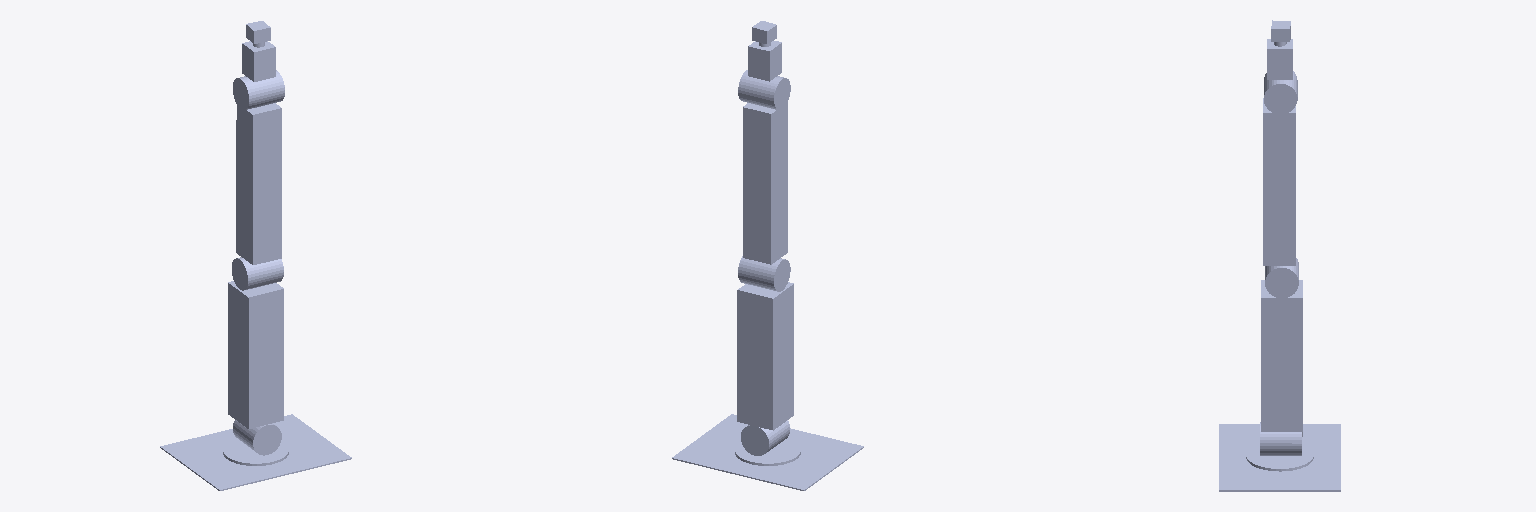
URDF robot description (colarm):
<?xml version="1.0" encoding="utf-8"?>
<!-- This URDF was automatically created by SolidWorks to URDF Exporter! Originally created by [author] ([email redacted]) 
     Commit Version: 1.5.1-0-g916b5db  Build Version: 1.5.7152.31018
     For more information, please see http://wiki.ros.org/sw_urdf_exporter -->
<robot
  name="colarm">
  <link
    name="base_link">
    <inertial>
      <origin
        xyz="1.342E-17 0.00175 0"
        rpy="0 0 0" />
      <mass
        value="0.37094" />
      <inertia
        ixx="0.0025643"
        ixy="5.2134E-22"
        ixz="-5.7244E-19"
        iyy="0.0067502"
        iyz="0"
        izz="0.0041866" />
    </inertial>
    <visual>
      <origin
        xyz="0 0 0"
        rpy="0 0 0" />
      <geometry>
        <mesh
          filename="package://colarm/meshes/base_link.STL" />
      </geometry>
      <material
        name="">
        <color
          rgba="0.79216 0.81961 0.93333 1" />
      </material>
    </visual>
    <collision>
      <origin
        xyz="0 0 0"
        rpy="0 0 0" />
      <geometry>
        <mesh
          filename="package://colarm/meshes/base_link.STL" />
      </geometry>
    </collision>
  </link>
  <link
    name="upbase_link">
    <inertial>
      <origin
        xyz="-1.3629E-16 0.005 -1.459E-14"
        rpy="0 0 0" />
      <mass
        value="0.20106" />
      <inertia
        ixx="0.00032337"
        ixy="-8.721E-18"
        ixz="0"
        iyy="0.0006434"
        iyz="-9.3345E-16"
        izz="0.00032337" />
    </inertial>
    <visual>
      <origin
        xyz="0 0 0"
        rpy="0 0 0" />
      <geometry>
        <mesh
          filename="package://colarm/meshes/upbase_link.STL" />
      </geometry>
      <material
        name="">
        <color
          rgba="0.79216 0.81961 0.93333 1" />
      </material>
    </visual>
    <collision>
      <origin
        xyz="0 0 0"
        rpy="0 0 0" />
      <geometry>
        <mesh
          filename="package://colarm/meshes/upbase_link.STL" />
      </geometry>
    </collision>
  </link>
  <joint
    name="upbase_joint"
    type="revolute">
    <origin
      xyz="0 0 0"
      rpy="1.5708 0 3.1322" />
    <parent
      link="base_link" />
    <child
      link="upbase_link" />
    <axis
      xyz="0 1 0" />
    <limit
      lower="-1.57"
      upper="1.57"
      effort="25"
      velocity="0.5" />
  </joint>
  <link
    name="prox_link">
    <inertial>
      <origin
        xyz="0.0022249 0.3694 0.0027483"
        rpy="0 0 0" />
      <mass
        value="8.5094" />
      <inertia
        ixx="0.078716"
        ixy="-5.827E-18"
        ixz="2.04E-06"
        iyy="0.018015"
        iyz="1.5993E-15"
        izz="0.080556" />
    </inertial>
    <visual>
      <origin
        xyz="0 0 0"
        rpy="0 0 0" />
      <geometry>
        <mesh
          filename="package://colarm/meshes/prox_link.STL" />
      </geometry>
      <material
        name="">
        <color
          rgba="0.79216 0.81961 0.93333 1" />
      </material>
    </visual>
    <collision>
      <origin
        xyz="0 0 0"
        rpy="0 0 0" />
      <geometry>
        <mesh
          filename="package://colarm/meshes/prox_link.STL" />
      </geometry>
    </collision>
  </link>
  <joint
    name="prox_joint"
    type="revolute">
    <origin
      xyz="-0.0031353 0.0935 0.0050186"
      rpy="3.1416 -0.0093664 3.1416" />
    <parent
      link="upbase_link" />
    <child
      link="prox_link" />
    <axis
      xyz="-0.54145 -0.84072 -0.0050716" />
    <limit
      lower="-1.57"
      upper="1.57"
      effort="25"
      velocity="0.5" />
  </joint>
  <link
    name="distal_link">
    <inertial>
      <origin
        xyz="0.00013587 0.23939 -0.00044913"
        rpy="0 0 0" />
      <mass
        value="3.0627" />
      <inertia
        ixx="0.035901"
        ixy="-3.3881E-20"
        ixz="-6.8097E-20"
        iyy="0.0033506"
        iyz="4.5175E-20"
        izz="0.036119" />
    </inertial>
    <visual>
      <origin
        xyz="0 0 0"
        rpy="0 0 0" />
      <geometry>
        <mesh
          filename="package://colarm/meshes/distal_link.STL" />
      </geometry>
      <material
        name="">
        <color
          rgba="0.79216 0.81961 0.93333 1" />
      </material>
    </visual>
    <collision>
      <origin
        xyz="0 0 0"
        rpy="0 0 0" />
      <geometry>
        <mesh
          filename="package://colarm/meshes/distal_link.STL" />
      </geometry>
    </collision>
  </link>
  <joint
    name="distal_joint"
    type="revolute">
    <origin
      xyz="0.0050063 0.43 0.006154"
      rpy="0 0 0" />
    <parent
      link="prox_link" />
    <child
      link="distal_link" />
    <axis
      xyz="0 0 0" />
    <limit
      lower="-1.57"
      upper="1.57"
      effort="25"
      velocity="0.5" />
  </joint>
  <link
    name="basewrist_link">
    <inertial>
      <origin
        xyz="3.1985E-06 0.041687 -2.6948E-05"
        rpy="0 0 0" />
      <mass
        value="0.2986" />
      <inertia
        ixx="0.0002408"
        ixy="1.3878E-21"
        ixz="-8.6736E-22"
        iyy="0.00017399"
        iyz="6.2572E-37"
        izz="0.0002408" />
    </inertial>
    <visual>
      <origin
        xyz="0 0 0"
        rpy="0 0 0" />
      <geometry>
        <mesh
          filename="package://colarm/meshes/basewrist_link.STL" />
      </geometry>
      <material
        name="">
        <color
          rgba="0.79216 0.81961 0.93333 1" />
      </material>
    </visual>
    <collision>
      <origin
        xyz="0 0 0"
        rpy="0 0 0" />
      <geometry>
        <mesh
          filename="package://colarm/meshes/basewrist_link.STL" />
      </geometry>
    </collision>
  </link>
  <joint
    name="basewrist_joint"
    type="revolute">
    <origin
      xyz="-0.00021009 0.48 -0.00075716"
      rpy="0 0 0" />
    <parent
      link="distal_link" />
    <child
      link="basewrist_link" />
    <axis
      xyz="0 0 0" />
    <limit
      lower="-1.57"
      upper="1.57"
      effort="25"
      velocity="0.5" />
  </joint>
  <link
    name="wrist_link">
    <inertial>
      <origin
        xyz="0.0024253 0.0175 0.00046914"
        rpy="0 0 0" />
      <mass
        value="0.070875" />
      <inertia
        ixx="1.9195E-05"
        ixy="-3.0988E-17"
        ixz="-6.7763E-21"
        iyy="2.392E-05"
        iyz="1.7007E-18"
        izz="1.9195E-05" />
    </inertial>
    <visual>
      <origin
        xyz="0 0 0"
        rpy="0 0 0" />
      <geometry>
        <mesh
          filename="package://colarm/meshes/wrist_link.STL" />
      </geometry>
      <material
        name="">
        <color
          rgba="0.79216 0.81961 0.93333 1" />
      </material>
    </visual>
    <collision>
      <origin
        xyz="0 0 0"
        rpy="0 0 0" />
      <geometry>
        <mesh
          filename="package://colarm/meshes/wrist_link.STL" />
      </geometry>
    </collision>
  </link>
  <joint
    name="wrist_joint"
    type="revolute">
    <origin
      xyz="-0.00054474 0.095 -0.00075892"
      rpy="0 1.5162 0" />
    <parent
      link="basewrist_link" />
    <child
      link="wrist_link" />
    <axis
      xyz="-0.99898 0 0.045176" />
    <limit
      lower="-1.57"
      upper="1.57"
      effort="25"
      velocity="0.5" />
  </joint>
</robot>

--- What the picture shows (computed from the rendered views, not written in the file) ---
Views: 3 orthographic renders of the robot side by side, from view 1: azimuth 30°, elevation 25°; view 2: azimuth 150°, elevation 25°; view 3: azimuth 270°, elevation 25°.
Model colarm with 6 links and 5 joints (5 revolute), rooted at base_link, posed every joint at zero.
Links seen in each view (by area): view 1: prox_link, base_link; view 2: prox_link, distal_link, base_link, basewrist_link; view 3: prox_link, distal_link, base_link, basewrist_link, upbase_link.
Boxes of the visible links, x1,y1,x2,y2 form: prox_link: (160,25,351,490); base_link: (160,414,351,490); prox_link: (716,27,863,490); distal_link: (738,71,790,264); base_link: (672,414,828,490); basewrist_link: (748,41,781,81); prox_link: (1219,20,1340,491); distal_link: (1263,71,1297,265); base_link: (1219,446,1340,491); basewrist_link: (1267,42,1292,79); upbase_link: (1246,444,1304,471).
Size in the robot's own frame: 0.368 by 0.288 by 1.13 metres.
Meshes: 6 distinct files referenced, 6 mesh visuals loaded (6 binary STL).